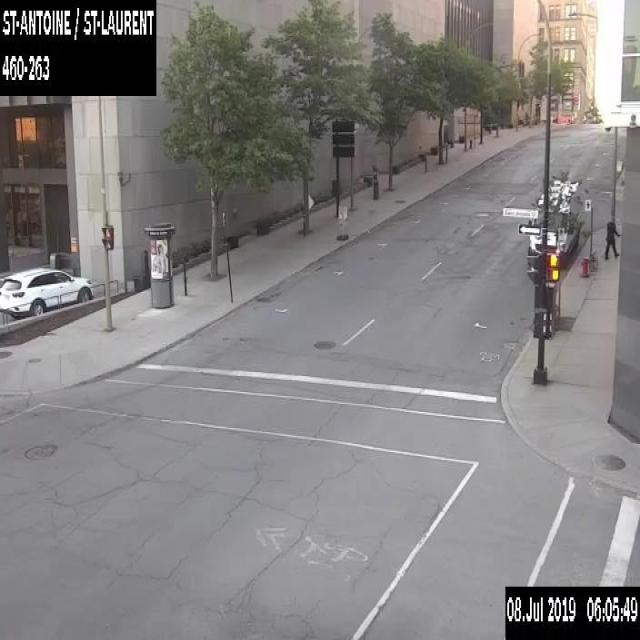pedestrian: (604, 214, 622, 258)
vehicle: (0, 266, 94, 318), (528, 179, 582, 268)
